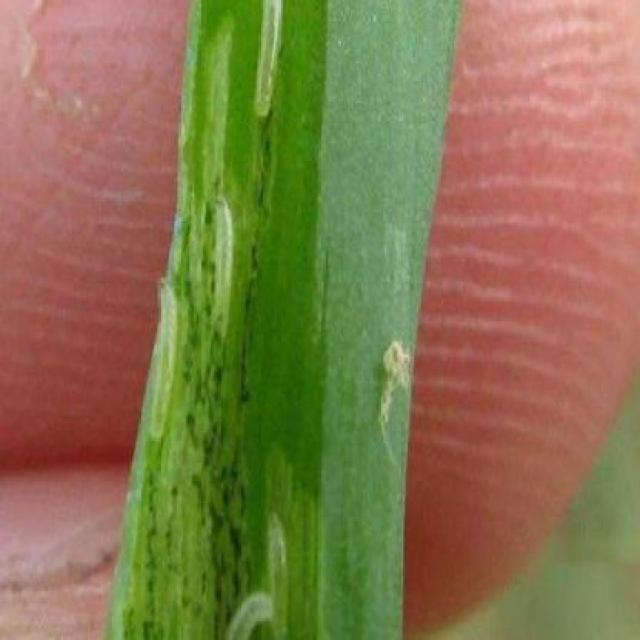whorl-maggot: (242, 0, 290, 126), (146, 277, 179, 441), (209, 182, 240, 336), (263, 506, 294, 640), (227, 589, 276, 640)
